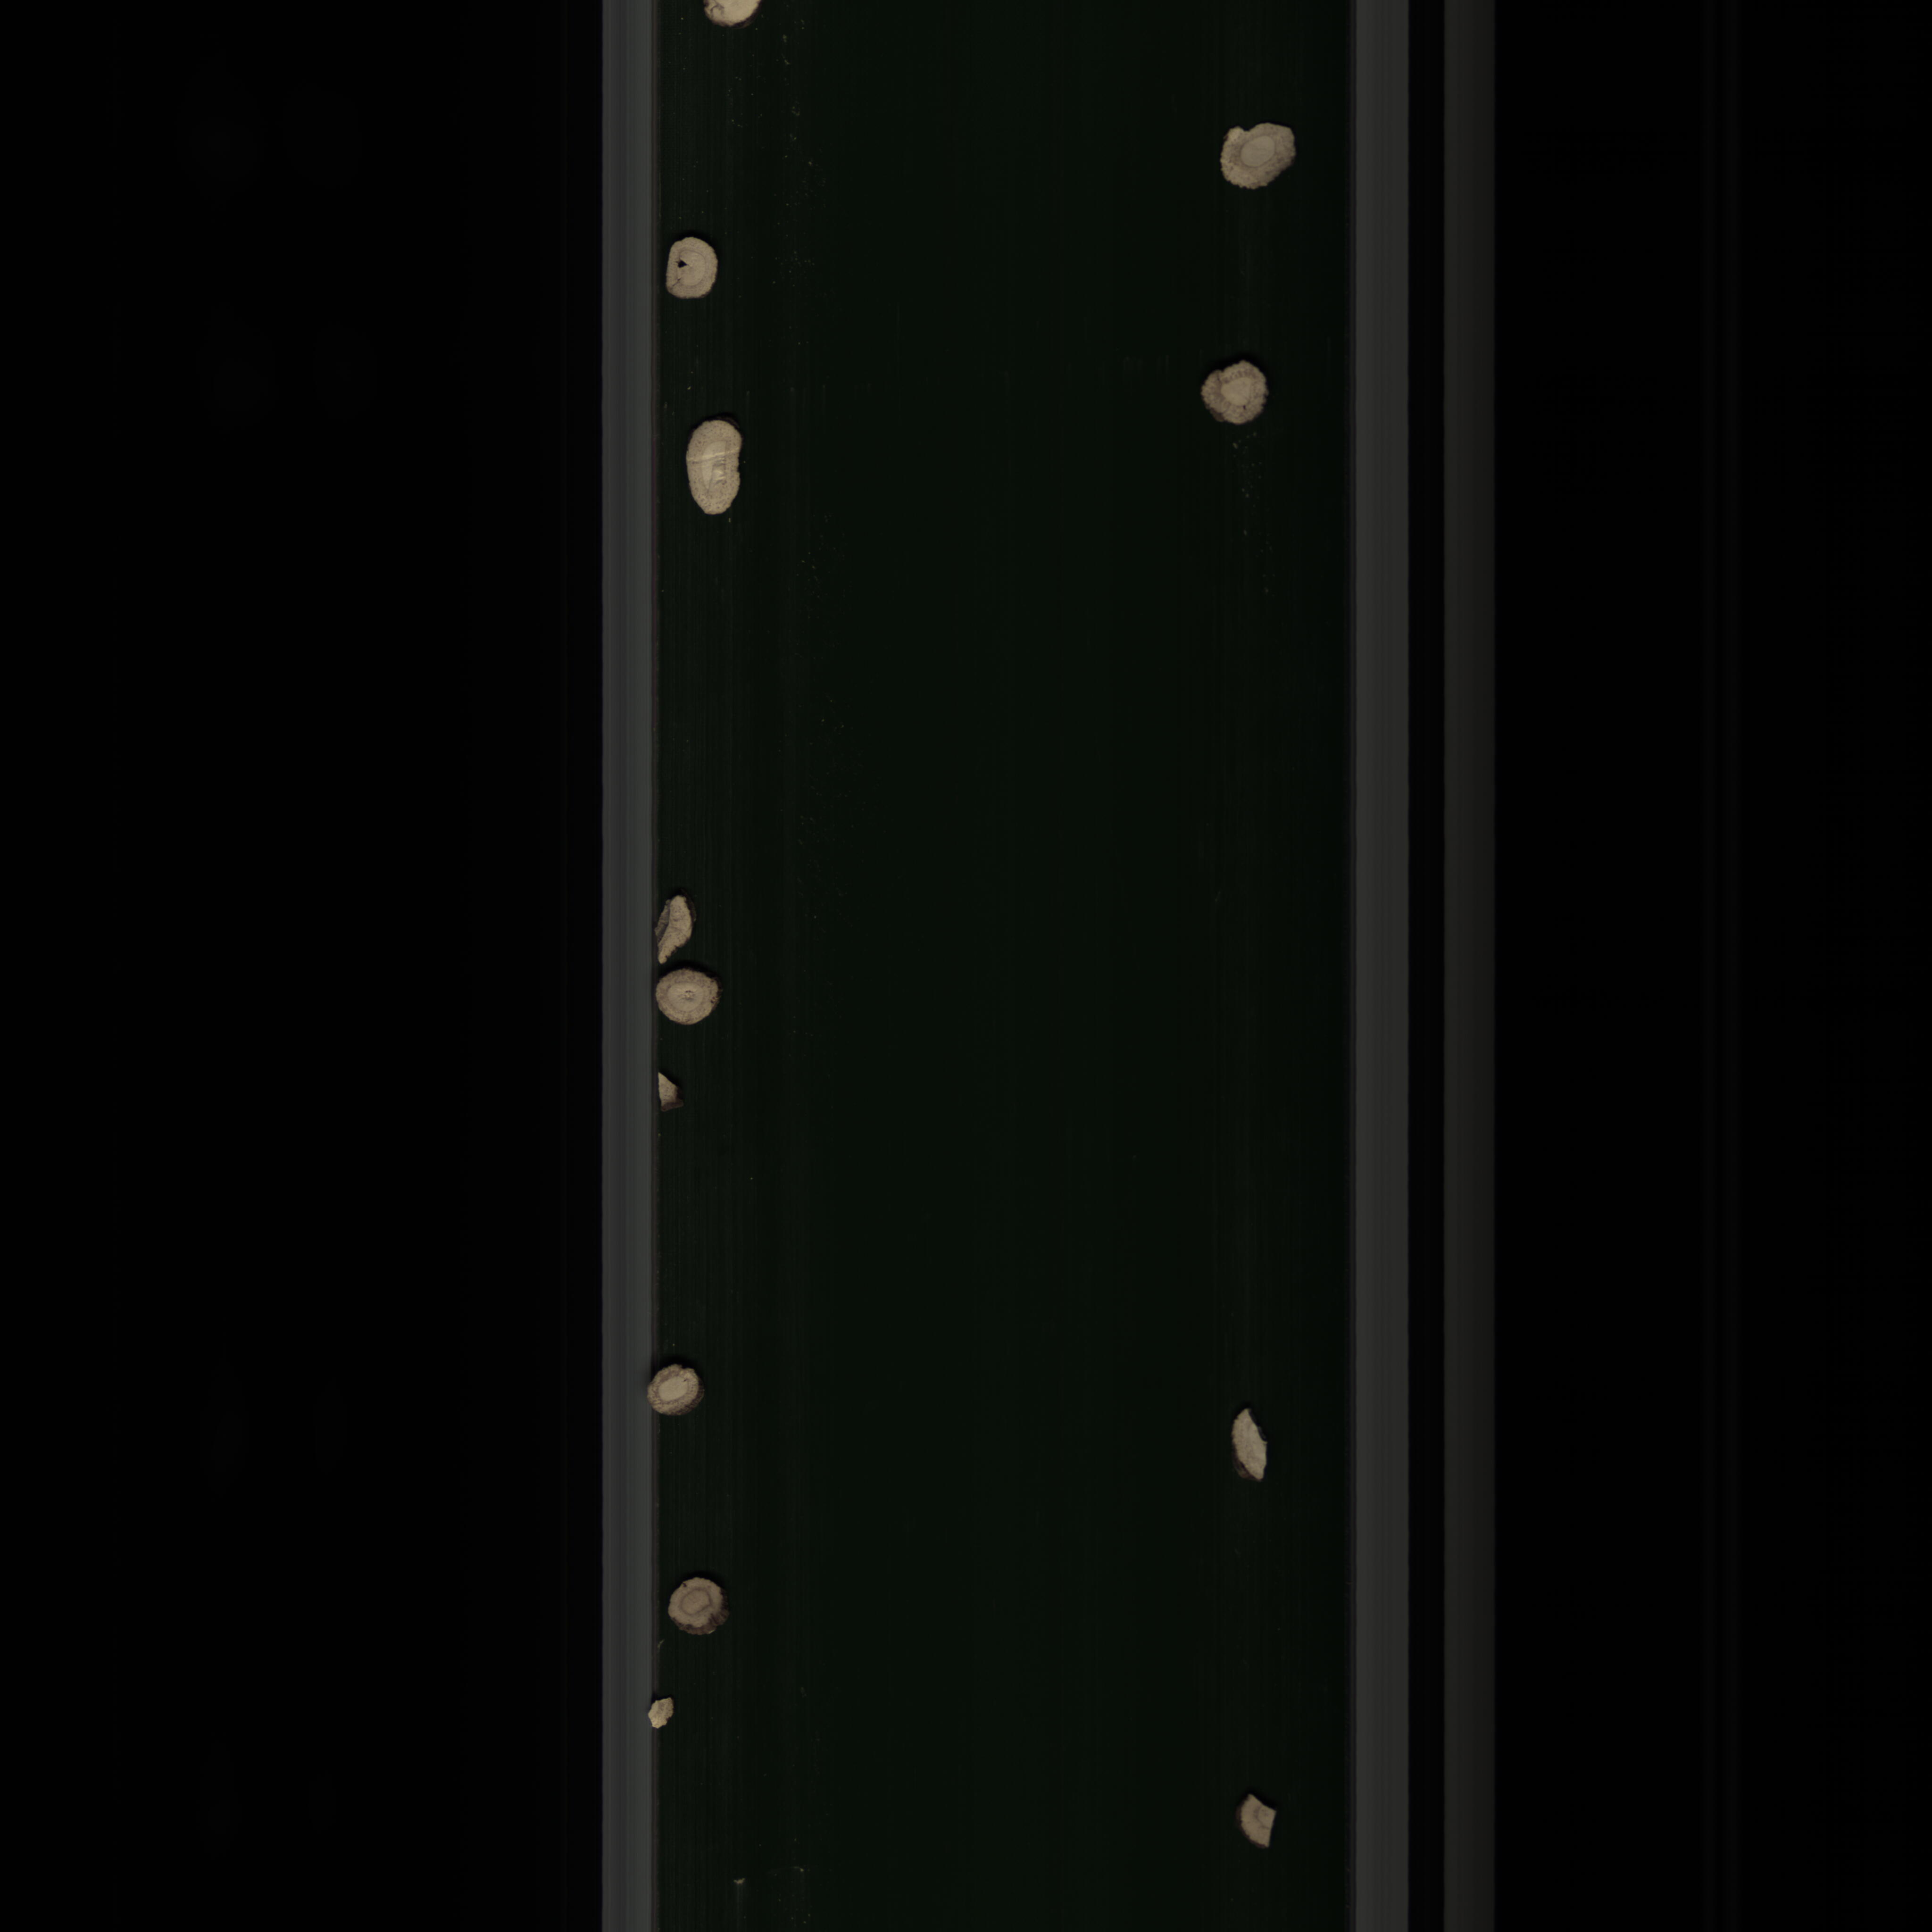bark: (656, 885, 699, 966), (649, 1065, 694, 1116), (639, 1691, 681, 1736)
debris: (1214, 1403, 1277, 1488), (1231, 1787, 1286, 1858)
distortion: (1210, 117, 1306, 205)
hole: (658, 232, 727, 310)
